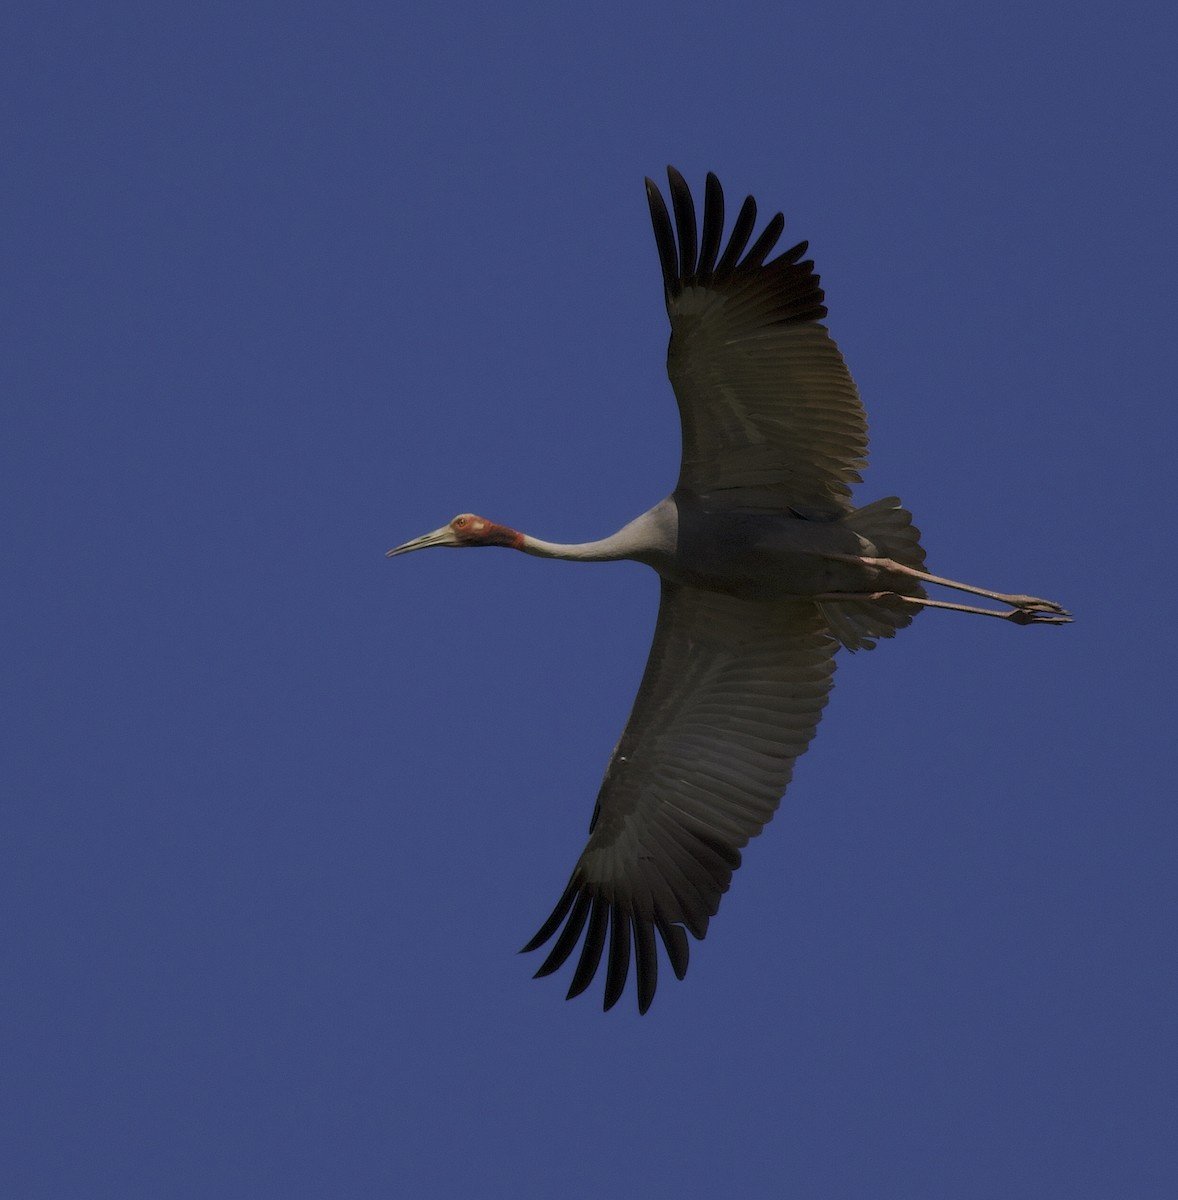crane: (358, 159, 1110, 1029)
